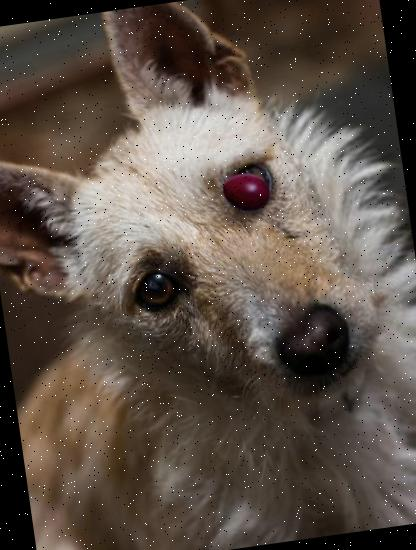Tamarillo: (220, 163, 280, 223)
